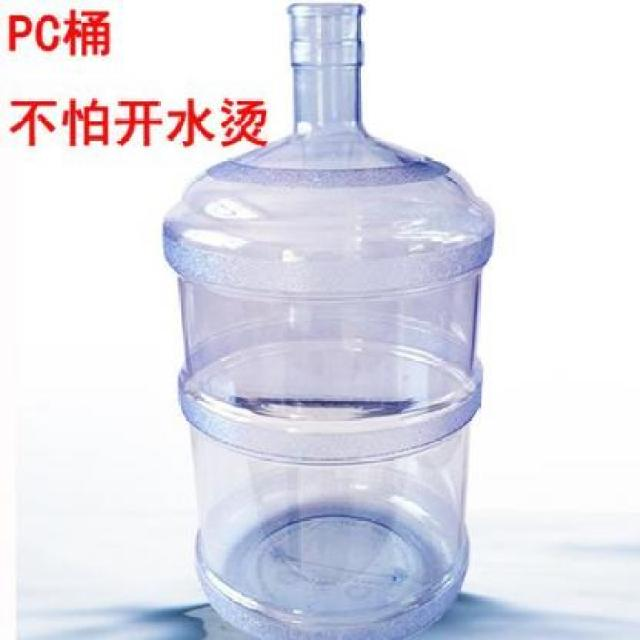coolerbottle: (159, 0, 503, 640)
